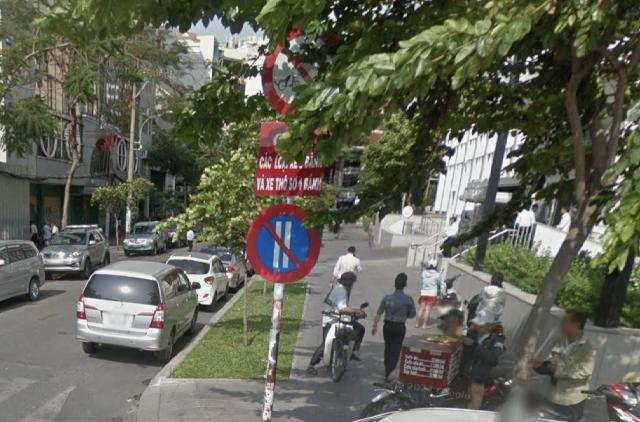131c-cam-do-xe-ngay-chan: (245, 203, 320, 283)
